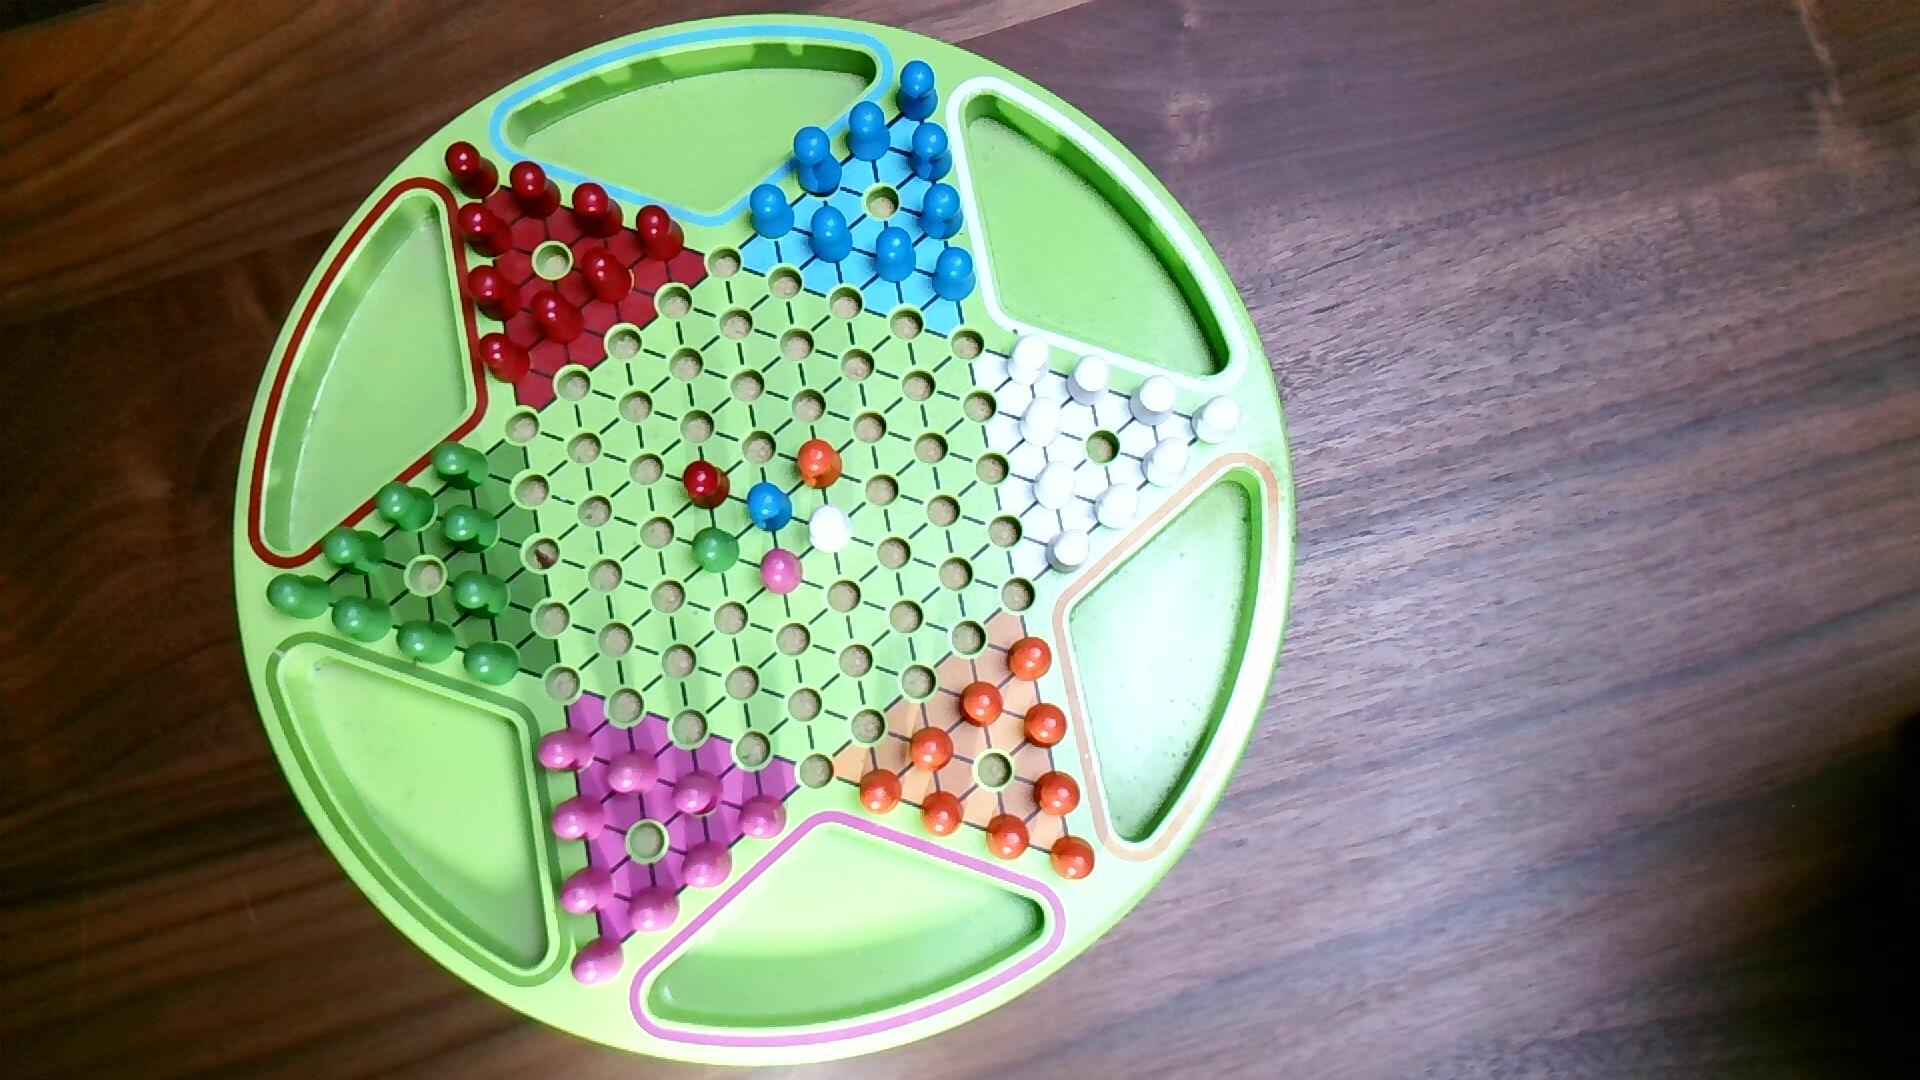B: (793, 124, 844, 196), (844, 100, 893, 164), (916, 182, 967, 243), (895, 59, 942, 123), (931, 245, 978, 306), (808, 204, 855, 266), (907, 123, 953, 185), (748, 182, 796, 240), (873, 225, 919, 285), (746, 481, 795, 535)
G: (320, 525, 388, 578), (375, 480, 438, 535), (266, 572, 334, 622), (430, 439, 492, 493), (451, 568, 512, 622), (440, 502, 501, 556), (331, 595, 394, 644), (397, 618, 458, 667), (463, 640, 522, 688), (690, 525, 742, 578)
O: (1033, 769, 1083, 820), (796, 438, 844, 492), (1048, 833, 1098, 884), (857, 767, 906, 818), (957, 680, 1006, 731), (1022, 702, 1069, 752), (909, 725, 956, 775), (985, 814, 1033, 862), (920, 790, 967, 839), (1007, 637, 1054, 684)
R: (465, 262, 524, 324), (456, 200, 516, 260), (527, 287, 587, 345), (444, 140, 501, 200), (509, 160, 564, 222), (580, 245, 634, 305), (571, 181, 624, 241), (636, 203, 687, 264), (477, 331, 533, 386), (682, 459, 732, 513)
R2: (558, 862, 617, 918), (550, 793, 608, 845), (535, 727, 597, 775), (571, 934, 626, 988), (670, 767, 727, 820), (626, 884, 683, 935), (680, 839, 735, 890), (607, 748, 662, 798), (737, 793, 789, 843), (760, 547, 804, 597)
W: (1126, 372, 1180, 430), (1139, 435, 1193, 491), (1189, 394, 1244, 447), (1006, 334, 1054, 389), (1033, 459, 1079, 514), (1018, 397, 1064, 451), (1067, 353, 1112, 409), (1093, 483, 1143, 531), (807, 505, 855, 556), (1044, 527, 1093, 576)
